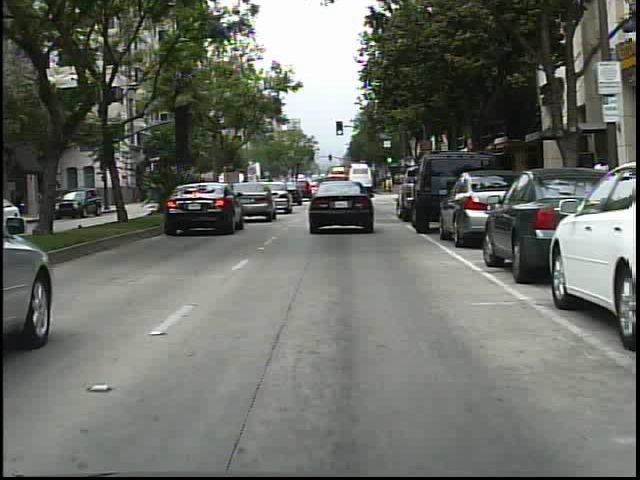person: (590, 152, 615, 225)
